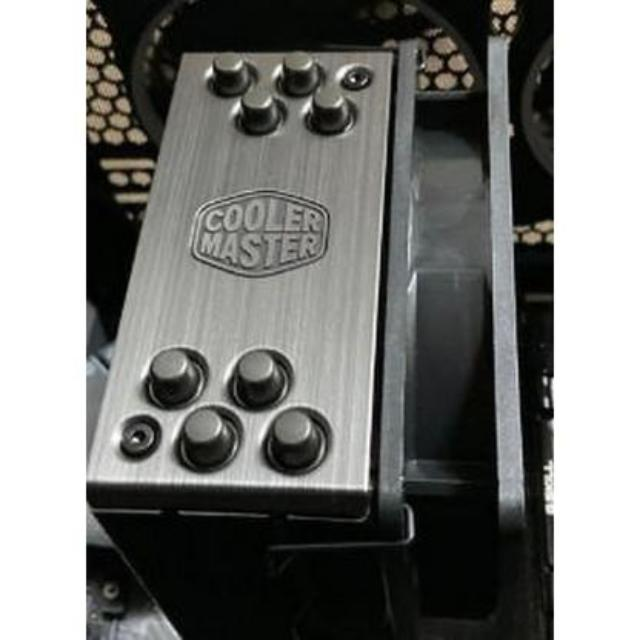CPU_Fan: (76, 28, 538, 640)
